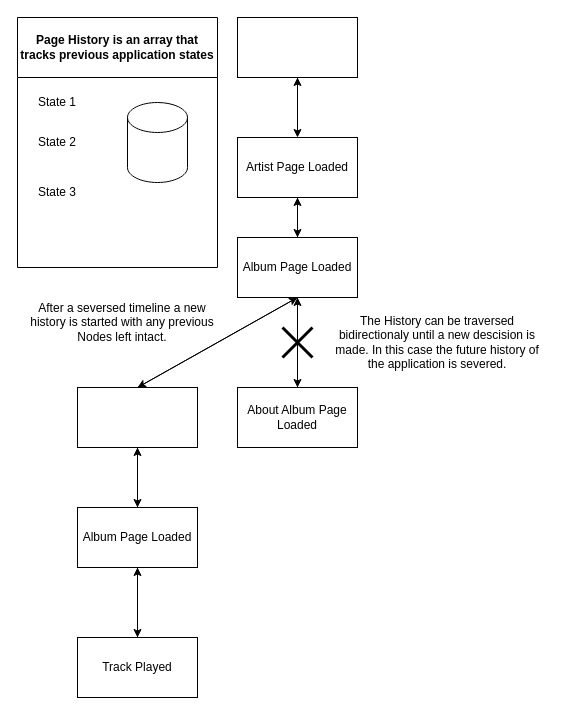
Image size: 565x715. Some labels were removed from this diagram. The shapes that lost their labels are listed below. From the top down, each one's centre as x and y in pixels, then its label:
(x=297, y=47): Query Page Loaded
(x=157, y=142): Page History
(x=137, y=417): Related Artist Page Loaded
